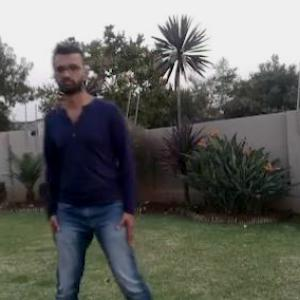follow: (34, 37, 142, 299)
